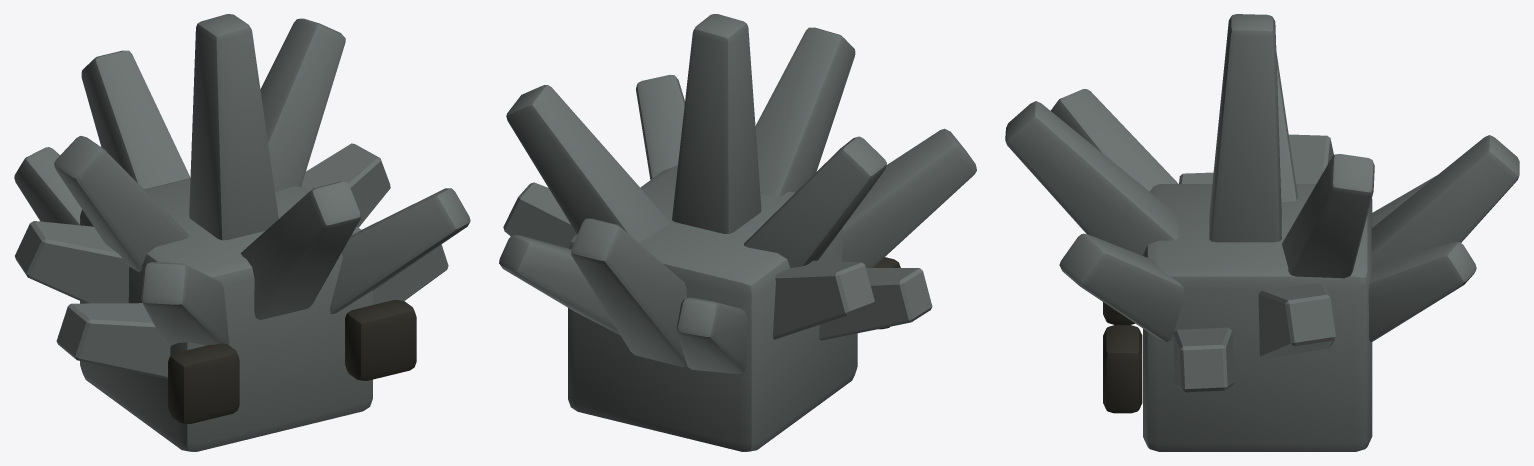
File: Pet_Hedgehog.fbx
3 renders of one model, left to right at view 1: azimuth 30°, elevation 25°; view 2: azimuth 150°, elevation 25°; view 3: azimuth 270°, elevation 25°, orthographic. The views are drawn at different scales.
Parts seen in each view (by area): view 1: Pet_Hedgehog; view 2: Pet_Hedgehog; view 3: Pet_Hedgehog.
Part boxes in pixels (x1,y1,x2,y2): Pet_Hedgehog: (14, 14, 470, 451); Pet_Hedgehog: (499, 14, 976, 451); Pet_Hedgehog: (1005, 14, 1519, 451).
Size of the model in its own units: 1.26 by 1.22 by 1.47.
1 material, 1 textured.
